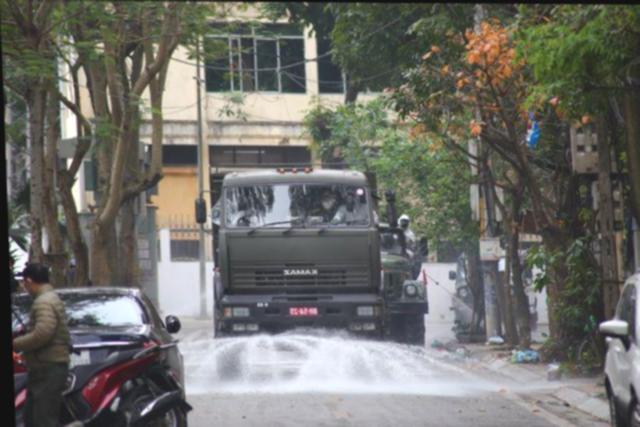License_Plate: (63, 347, 92, 368), (289, 307, 320, 319)
